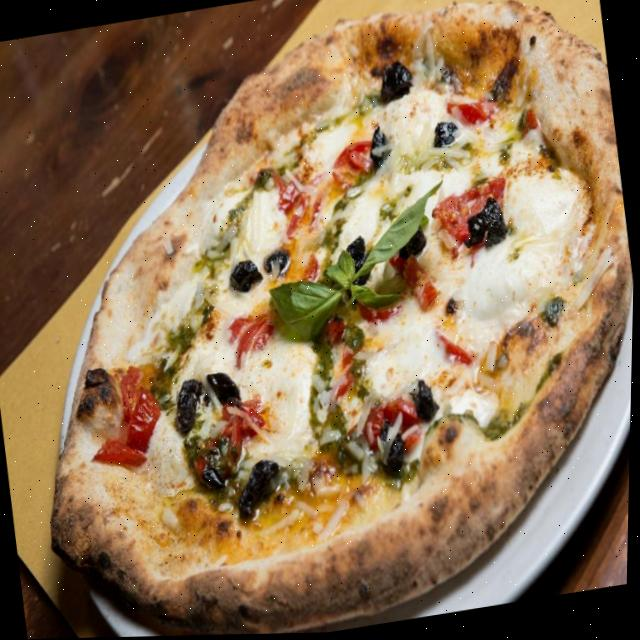basil: (339, 179, 458, 289), (268, 266, 347, 356), (348, 277, 410, 317), (325, 249, 363, 292)
black_olives: (235, 455, 288, 524), (459, 194, 512, 255), (170, 373, 216, 439), (342, 233, 376, 301), (377, 419, 410, 481), (375, 57, 417, 105), (200, 438, 239, 489), (226, 256, 268, 297), (206, 366, 244, 409), (410, 377, 441, 425), (367, 125, 392, 169), (430, 118, 462, 152), (400, 229, 428, 266), (263, 247, 292, 276)
pizza: (0, 0, 640, 640)
tomatoes: (454, 179, 515, 247), (192, 415, 250, 484), (365, 396, 425, 456), (284, 174, 333, 239), (230, 315, 284, 370), (328, 139, 382, 194), (124, 390, 167, 453), (400, 255, 442, 315), (95, 433, 150, 475), (446, 96, 497, 138), (432, 331, 477, 373), (438, 192, 482, 234), (223, 398, 267, 438), (358, 304, 408, 330), (272, 173, 306, 210), (320, 321, 350, 345)
